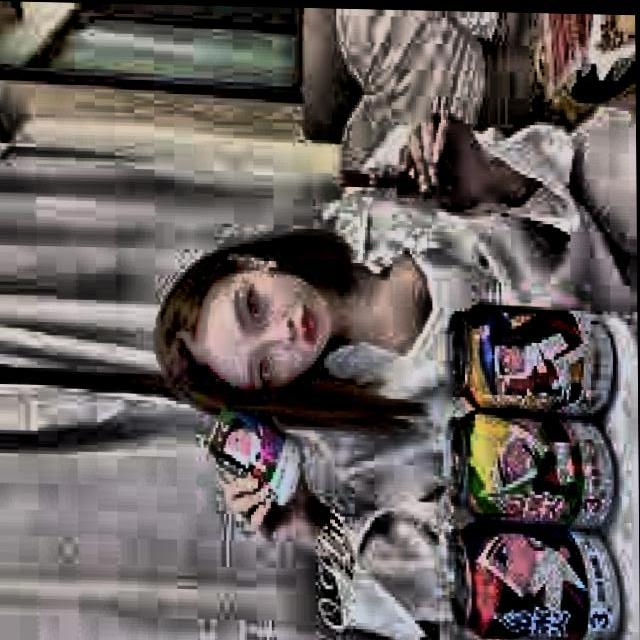Aluminum Can: (440, 406, 618, 529), (446, 291, 618, 418), (443, 522, 628, 640), (191, 398, 316, 512)
